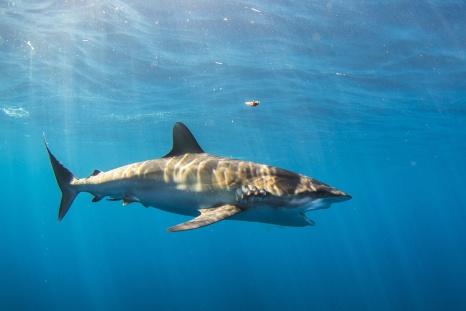Sedoso: (21, 116, 371, 235)
